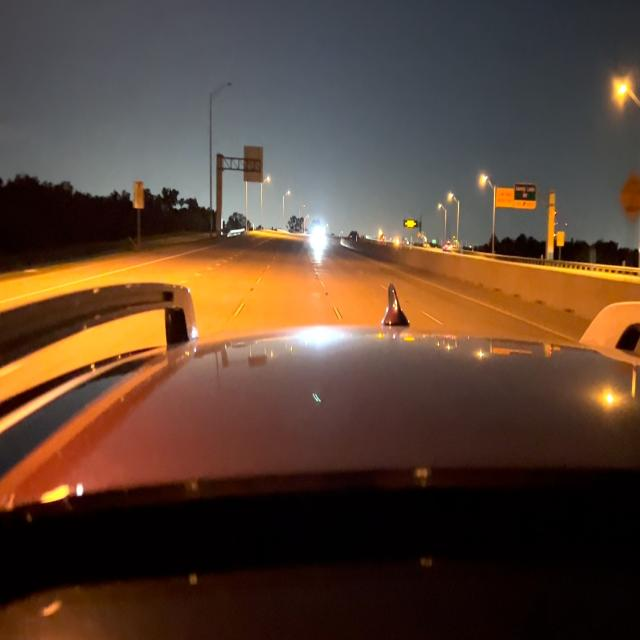back-of-sign: (243, 145, 262, 180), (134, 183, 142, 206)
